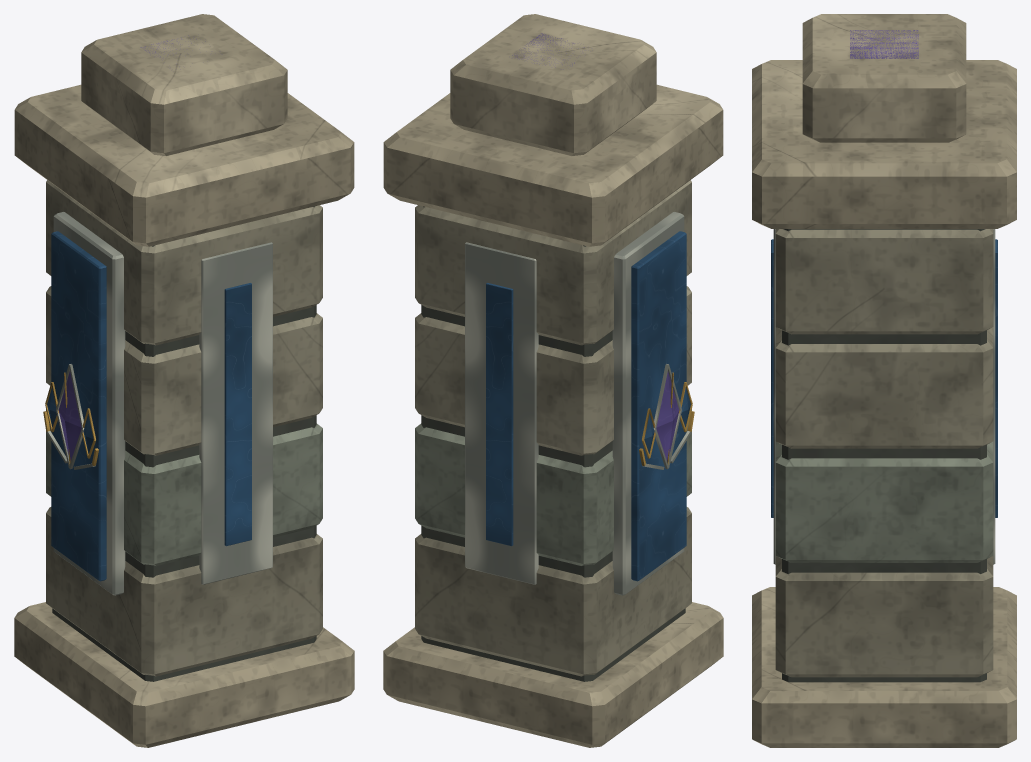
File: b04_pillar_coin.fbx
3 renders of one model, left to right at view 1: azimuth 30°, elevation 25°; view 2: azimuth 150°, elevation 25°; view 3: azimuth 270°, elevation 25°, orthographic. The views are drawn at different scales.
Parts seen in each view (by area): view 1: b04_pillar_coin; view 2: b04_pillar_coin; view 3: b04_pillar_coin.
Part boxes in pixels (<box>): b04_pillar_coin: <box>14,14,354,747</box>; b04_pillar_coin: <box>383,14,723,747</box>; b04_pillar_coin: <box>752,14,1016,747</box>.
Bounding box in the file's own units: 8759 × 8400 × 22800.
